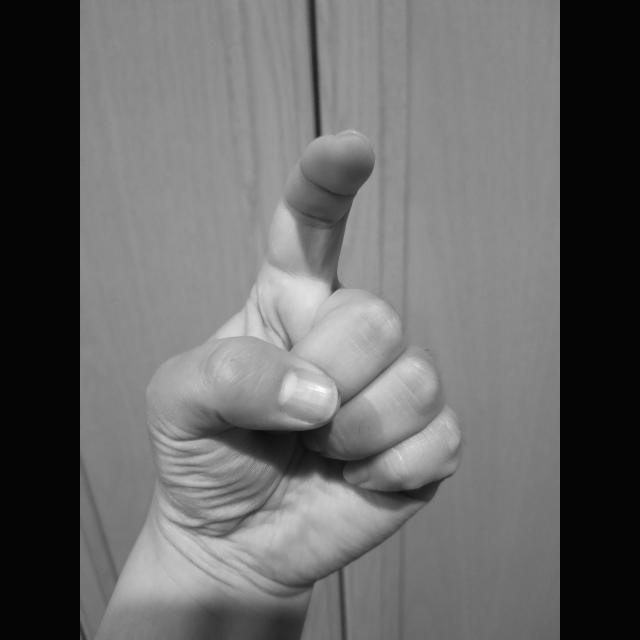X: (137, 124, 469, 596)
